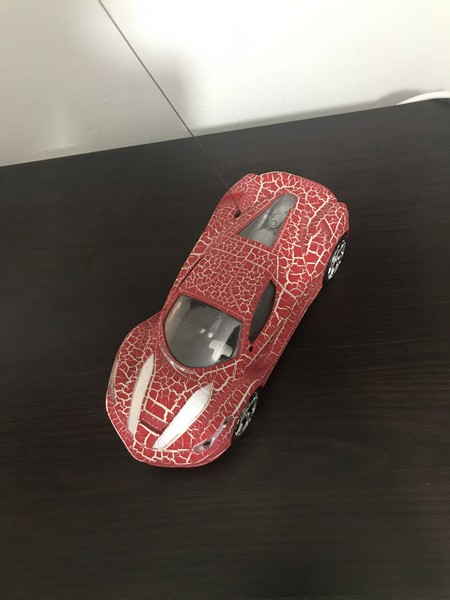RC: (103, 171, 353, 472)
